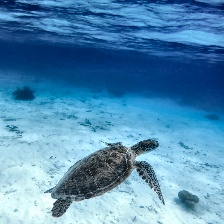seaturtle: (49, 139, 165, 217)
